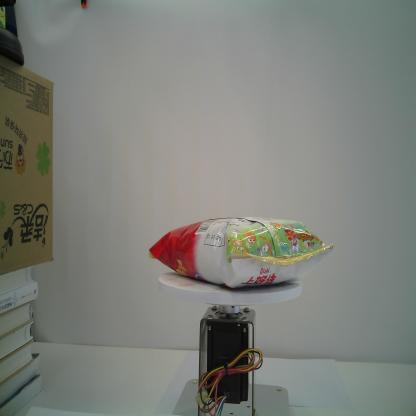Puffed Food: (146, 214, 336, 296)
